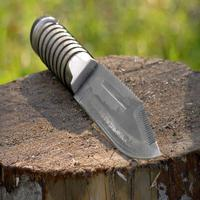knife: (29, 11, 165, 160)
